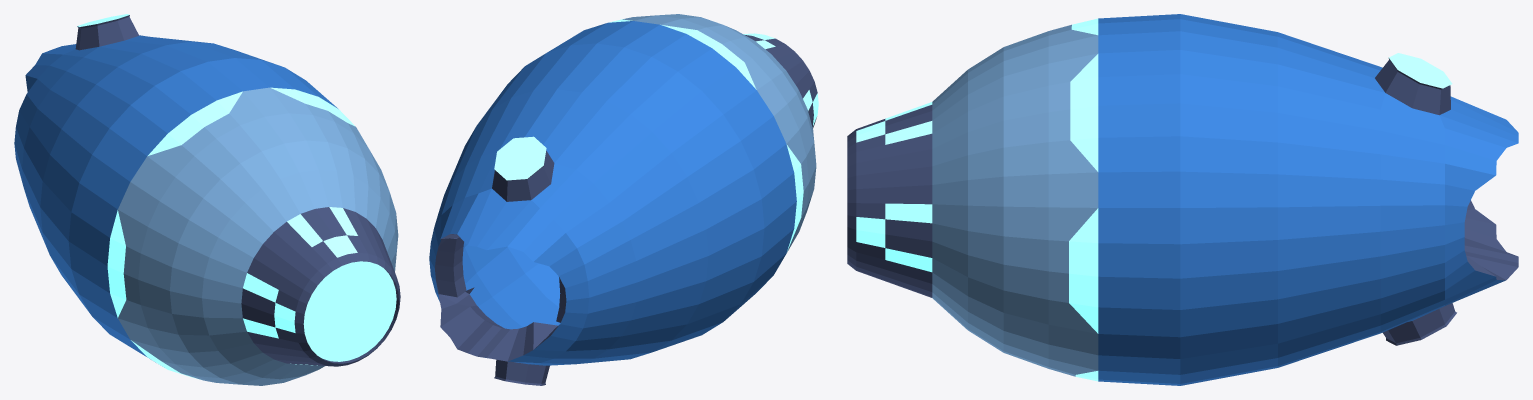
File: MegamanBusterV3(MegamanX).fbx
3 views of the same model, side by side, from view 1: azimuth 30°, elevation 25°; view 2: azimuth 150°, elevation 25°; view 3: azimuth 270°, elevation 25° (orthographic). The views are drawn at different scales.
Visible parts, largest first — view 1: Cilindro; view 2: Cilindro; view 3: Cilindro.
Part boxes in pixels (box(x1,y1,x2,y2)): Cilindro: box(14, 14, 400, 385); Cilindro: box(429, 14, 818, 385); Cilindro: box(847, 14, 1518, 385).
Bounding box in the file's own units: 259 × 259 × 467.
